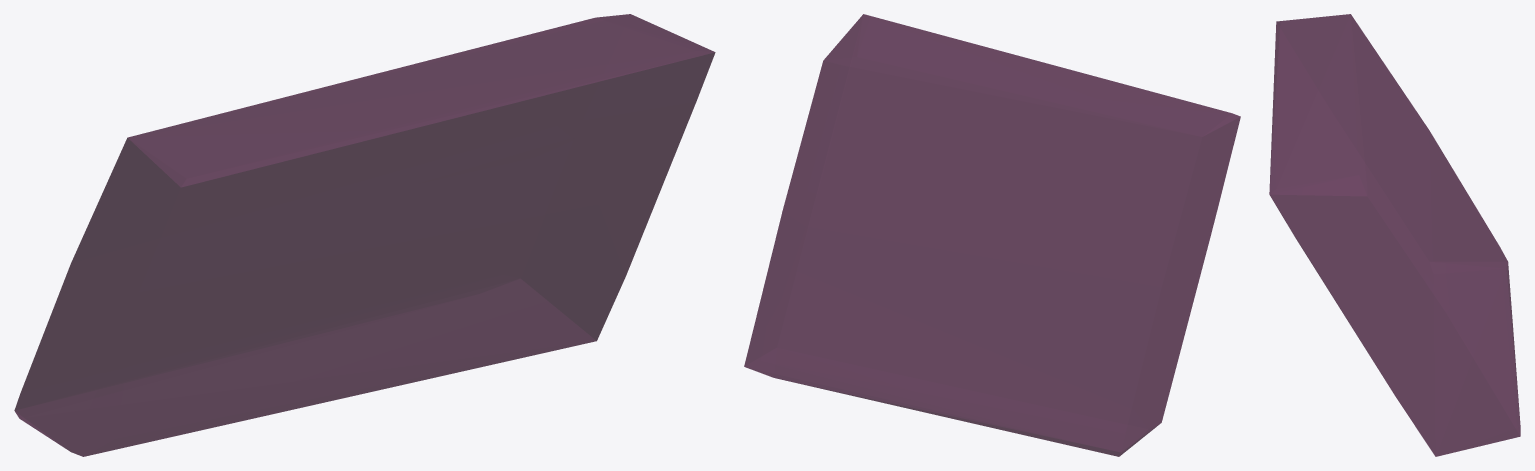
The picture shows the model from 3 angles, left to right: view 1: azimuth 30°, elevation 25°; view 2: azimuth 150°, elevation 25°; view 3: azimuth 270°, elevation 25°; orthographic projection. The views are drawn at different scales.
Visible parts, largest first — view 1: Shape_IndexedFaceSet.009_Shape_IndexedFaceSet.18100; view 2: Shape_IndexedFaceSet.009_Shape_IndexedFaceSet.18100; view 3: Shape_IndexedFaceSet.009_Shape_IndexedFaceSet.18100.
Boxes of the visible parts, x1,y1,x2,y2 form: Shape_IndexedFaceSet.009_Shape_IndexedFaceSet.18100: (14,14,715,456); Shape_IndexedFaceSet.009_Shape_IndexedFaceSet.18100: (744,14,1240,456); Shape_IndexedFaceSet.009_Shape_IndexedFaceSet.18100: (1269,14,1520,456).
Bounding box in the file's own units: 0.544 × 0.3695 × 0.3201.
